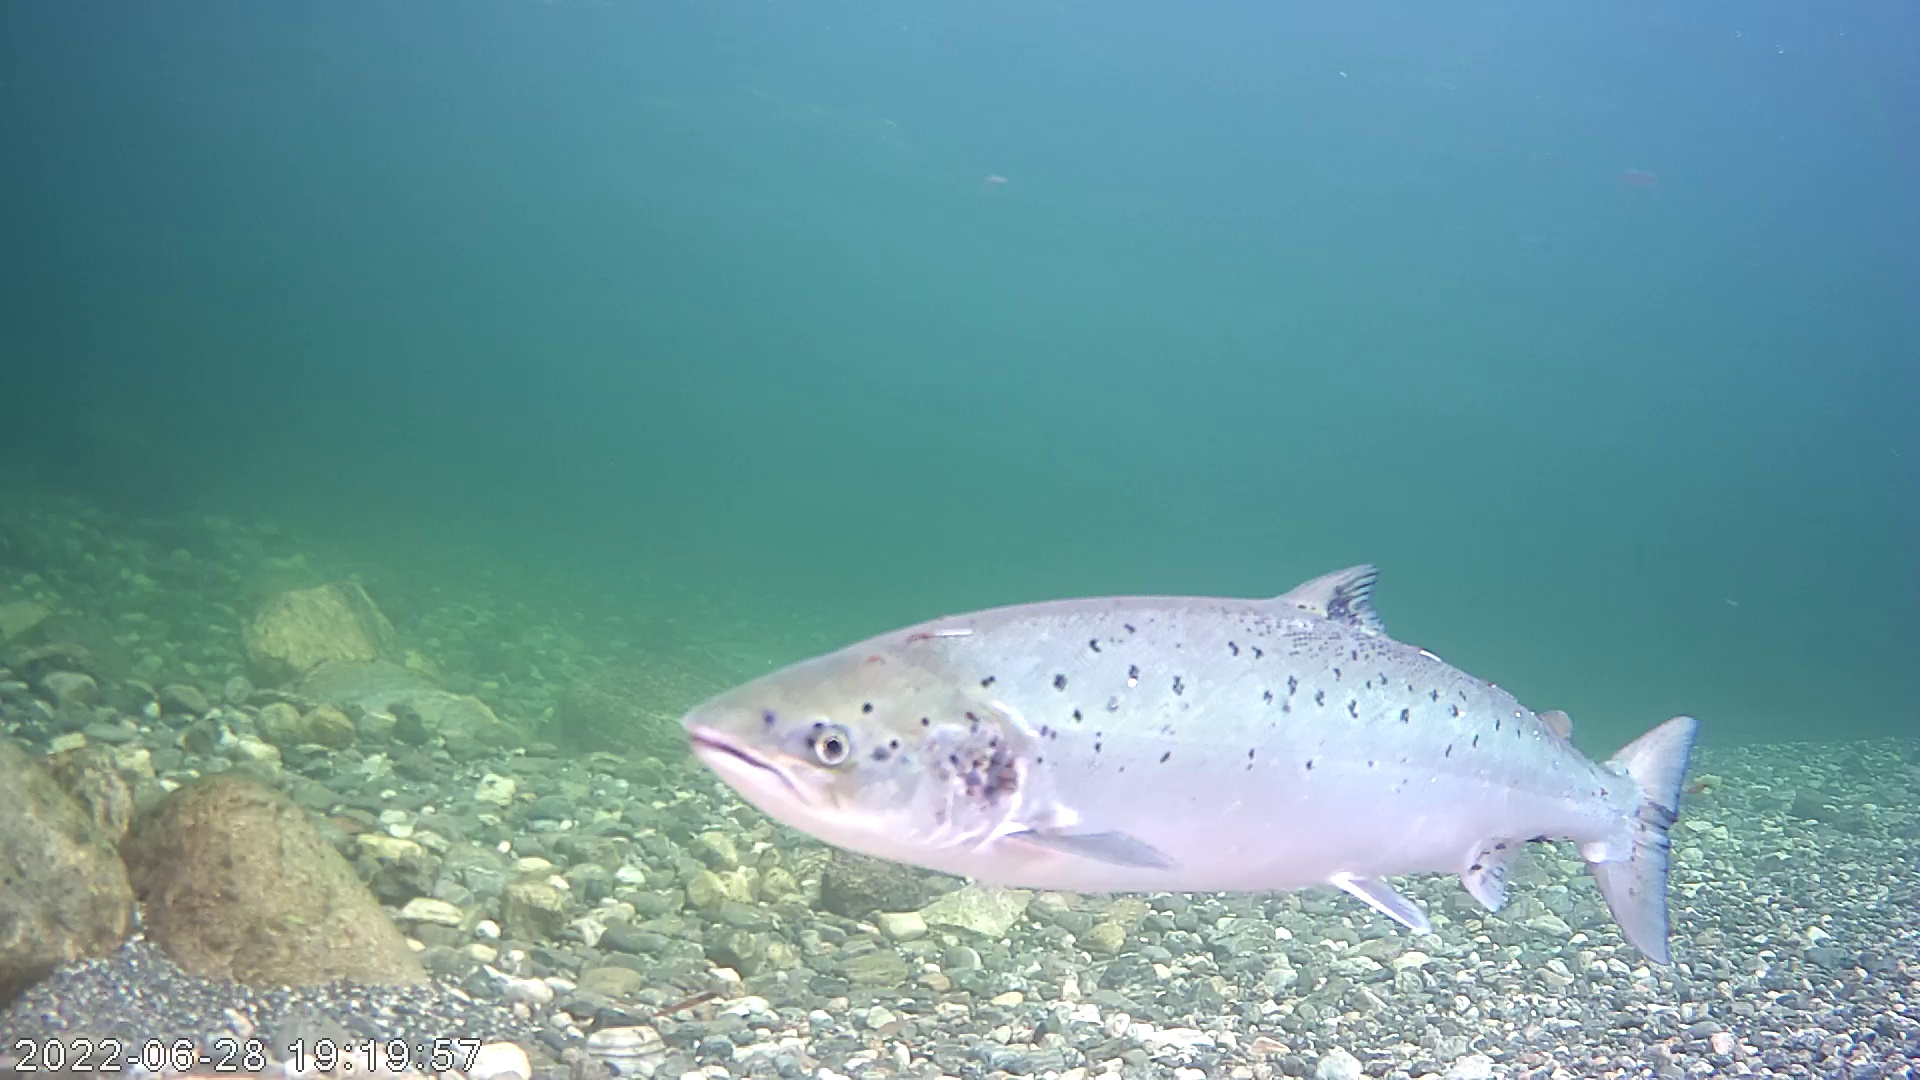salmon: (653, 469, 1713, 913)
